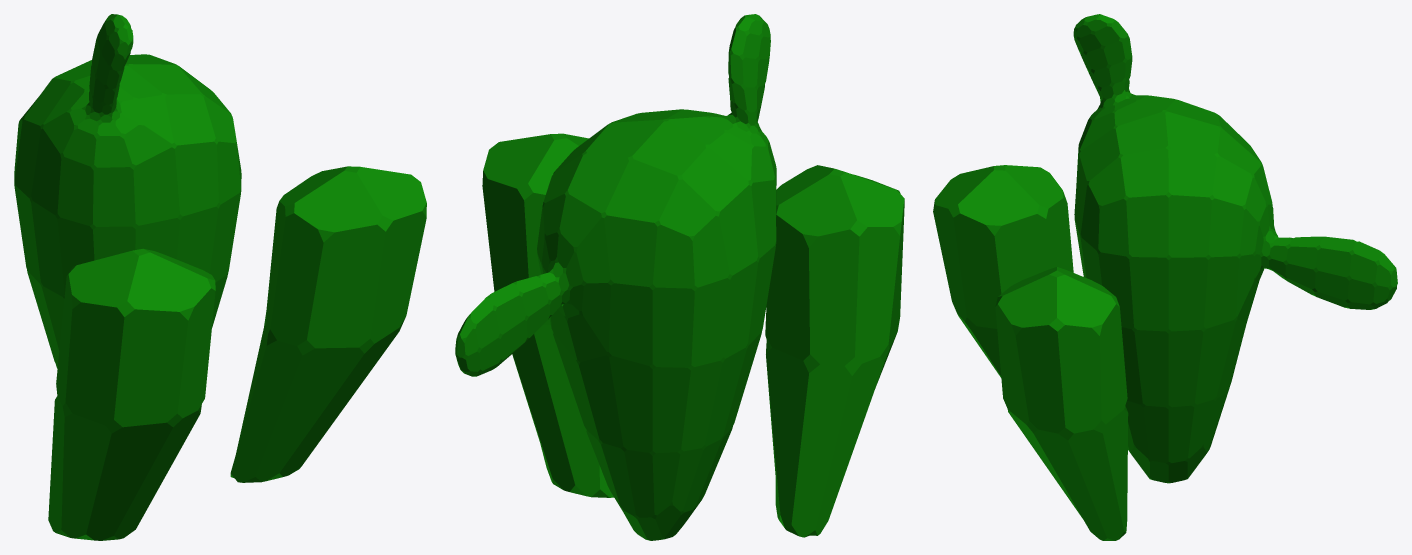
File: cactus.fbx
3 views of the same model, side by side, from view 1: azimuth 30°, elevation 25°; view 2: azimuth 150°, elevation 25°; view 3: azimuth 270°, elevation 25° (orthographic). The views are drawn at different scales.
Visible parts, largest first — view 1: Cube, Cube.002, Cube.001; view 2: Cube, Cube.001, Cube.002; view 3: Cube, Cube.002, Cube.001.
Boxes of the visible parts, x1,y1,x2,y2 form: Cube: [14, 14, 241, 368]; Cube.002: [230, 166, 426, 482]; Cube.001: [48, 248, 215, 540]; Cube: [455, 14, 776, 540]; Cube.001: [765, 165, 904, 537]; Cube.002: [482, 133, 613, 497]; Cube: [1073, 14, 1397, 483]; Cube.002: [995, 267, 1128, 540]; Cube.001: [933, 165, 1073, 377].
Bounding box in the file's own units: 54.13 × 68.76 × 64.95.
